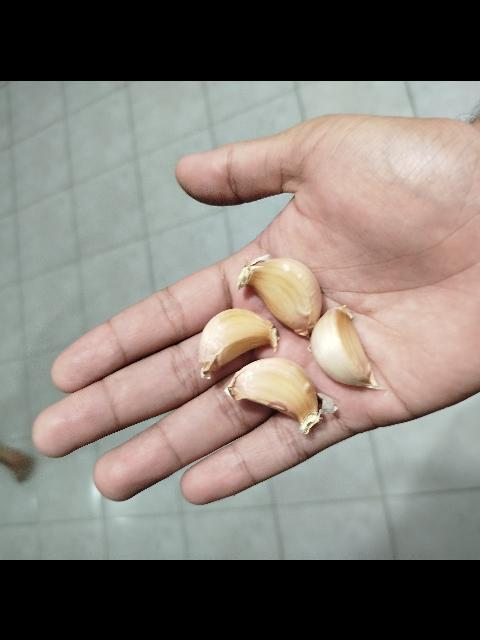garlic: (224, 356, 336, 434), (236, 253, 322, 337), (307, 304, 385, 388), (197, 306, 279, 378)
